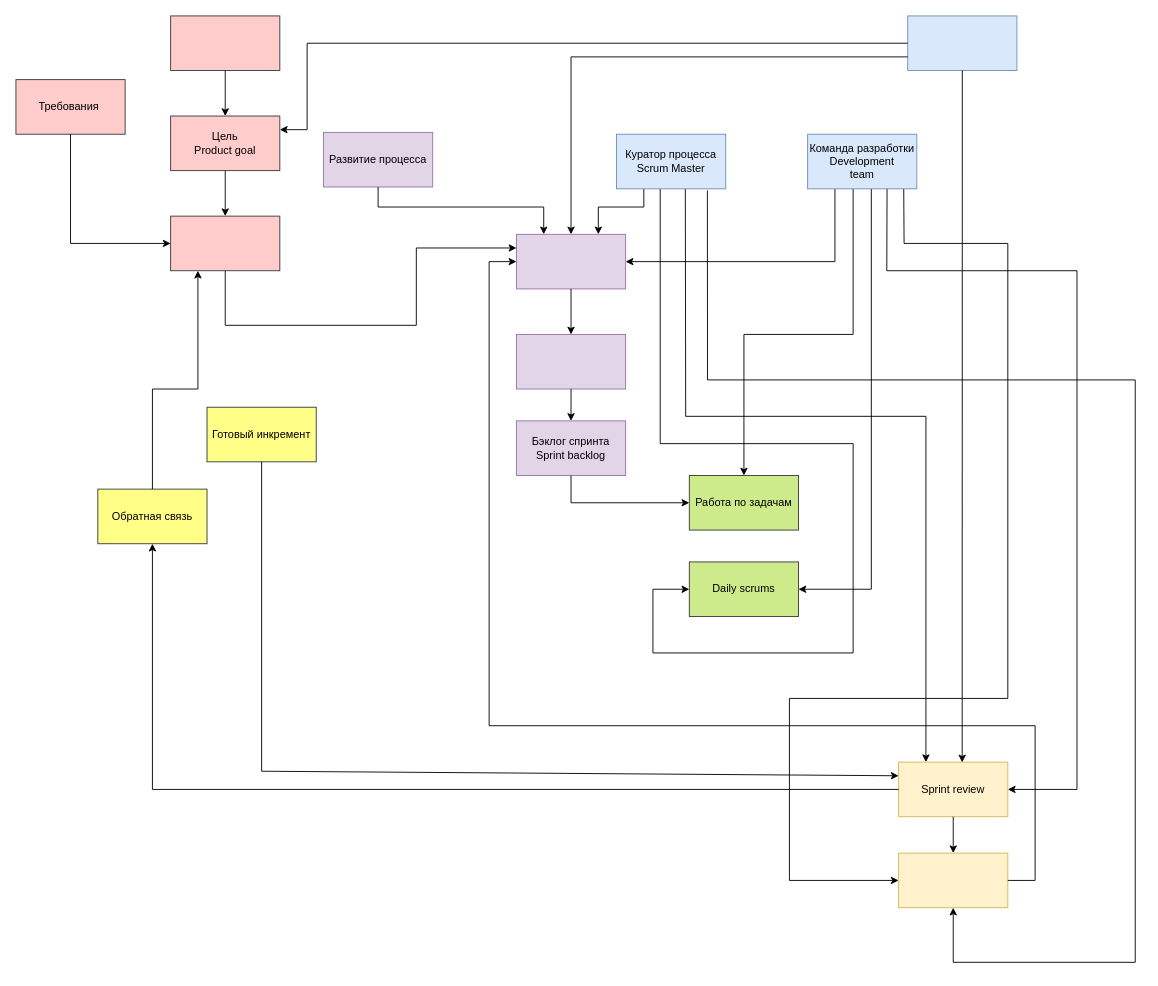
Image size: 1158x986. Some labels were removed from this diagram. Here are the shapes that lost their labels. From the top down, the centre of each, then its label:
At point (225, 43): "Видение продукта".
At point (962, 43): "Заказчик Project owner".
At point (225, 243): "Бэклог продукта Product backlog".
At point (571, 261): "Планирование спринта Sprint planning".
At point (571, 361): "Цель спринта Sprint goal".
At point (953, 880): "Sprint retrospective".
